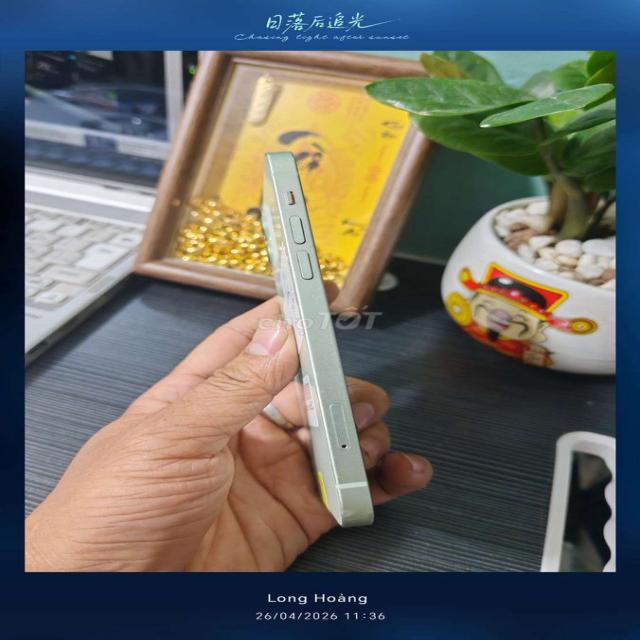gen_12_13: (244, 146, 390, 536)
